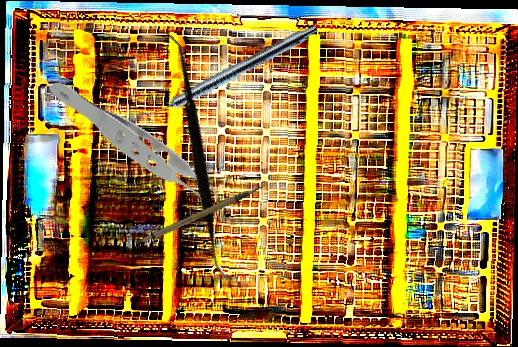Handpiece: (139, 19, 320, 126)
Scalpel Handle: (130, 185, 269, 249)
Spatula Surgical: (73, 30, 320, 282)
Tissue Forceps: (47, 42, 227, 262)
